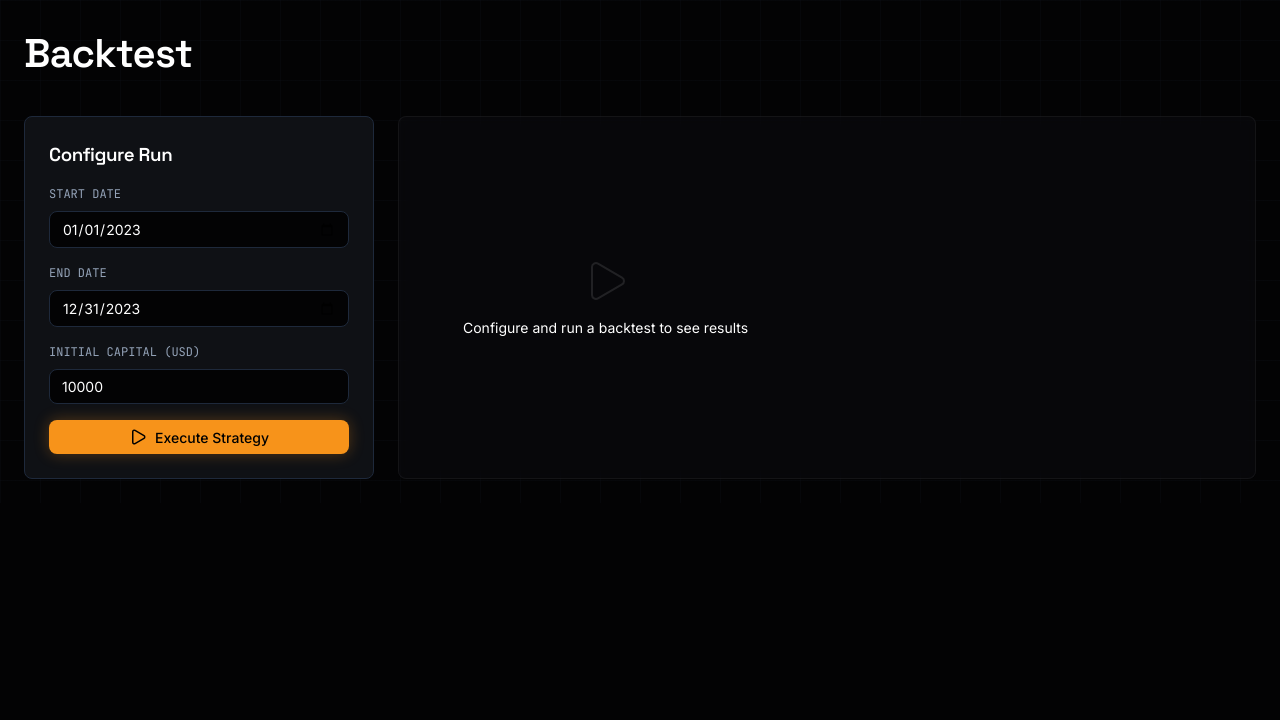
it: BacktestPage › runs backtest and renders metrics
Click the button "Execute Strategy": {"x": 199, "y": 437} [49,420,349,454]
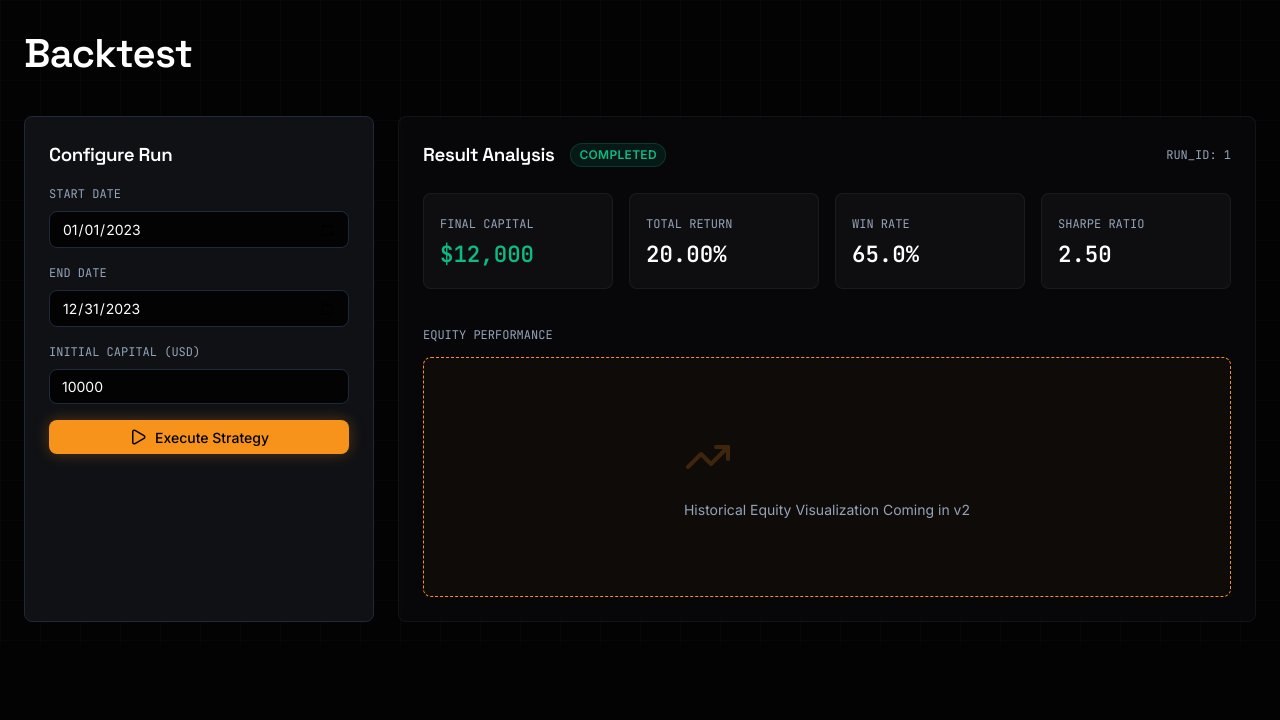
expect the text "$12,000" is shown: met, box [440,239,534,269]
expect the text "20.00%" is shown: met, box [646,239,727,269]
expect the text "65.0%" is shown: met, box [852,239,919,269]
